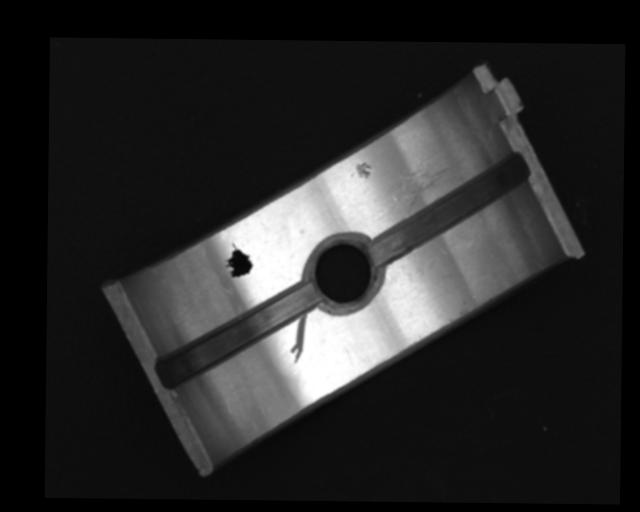blot: (224, 241, 254, 278)
bruise: (350, 160, 372, 179)
gap: (369, 150, 530, 267), (157, 282, 315, 388)
hole: (303, 236, 382, 312)
nick: (289, 314, 307, 364)
scratch: (393, 154, 466, 217)
